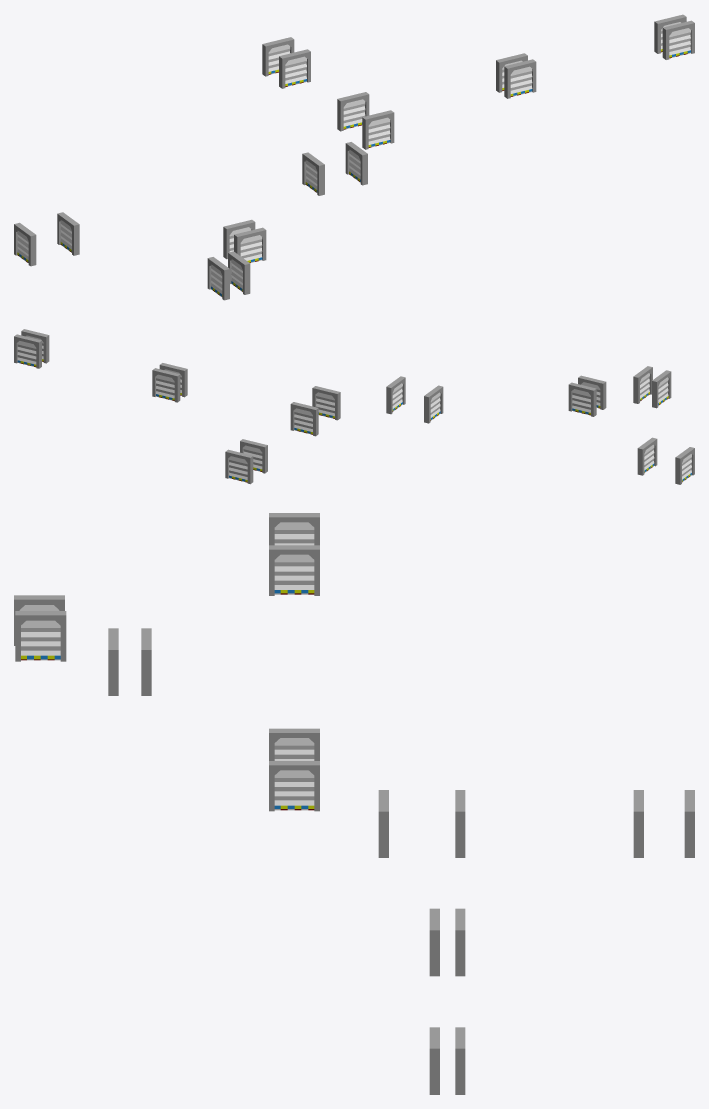
Rendered from Containment1.fbx_EnabledDoors.fbx.
3 renders of one model, top to bottom at view 1: azimuth 30°, elevation 25°; view 2: azimuth 150°, elevation 25°; view 3: azimuth 270°, elevation 25°, orthographic. The views are drawn at different scales.
Visible parts, largest first — view 1: DoorOff.010, DoorOff.007, DoorOff.002, DoorOff.009, DoorOff.003, DoorwayOff.009, DoorwayOff.007, DoorwayOff.010, DoorwayOff.002, DoorwayOff.015, DoorOff.017, DoorwayOff.018 (+7 smaller); view 2: DoorOff.005, DoorwayOff.011, DoorwayOff.004, DoorOff.011, DoorwayOff.003, DoorOff.003, DoorOff.004, DoorOff.016, DoorwayOff.016, DoorwayOff.014, DoorOff.010, DoorwayOff.005 (+11 smaller); view 3: DoorOff.012, DoorOff.014, DoorOff.019, DoorwayOff.019, DoorwayOff.014, DoorwayOff.012, DoorOff.015, DoorOff.013.
Part boxes in pixels (x1=…): DoorOff.010: x1=368, y1=117, x2=390, y2=147; DoorOff.007: x1=510, y1=66, x2=532, y2=96; DoorOff.002: x1=285, y1=56, x2=306, y2=86; DoorOff.009: x1=669, y1=28, x2=690, y2=58; DoorOff.003: x1=343, y1=99, x2=365, y2=129; DoorwayOff.009: x1=662, y1=20, x2=694, y2=59; DoorwayOff.007: x1=504, y1=59, x2=536, y2=98; DoorwayOff.010: x1=362, y1=110, x2=394, y2=149; DoorwayOff.002: x1=279, y1=49, x2=310, y2=88; DoorwayOff.015: x1=14, y1=222, x2=36, y2=266; DoorOff.017: x1=240, y1=235, x2=262, y2=262; DoorwayOff.018: x1=207, y1=257, x2=229, y2=300; DoorOff.005: x1=17, y1=341, x2=36, y2=367; DoorwayOff.011: x1=225, y1=449, x2=253, y2=484; DoorwayOff.004: x1=152, y1=368, x2=180, y2=402; DoorOff.011: x1=229, y1=456, x2=247, y2=482; DoorwayOff.003: x1=290, y1=402, x2=318, y2=436; DoorOff.003: x1=294, y1=408, x2=312, y2=434; DoorOff.004: x1=156, y1=374, x2=174, y2=400; DoorOff.016: x1=572, y1=389, x2=590, y2=415; DoorwayOff.016: x1=568, y1=382, x2=596, y2=416; DoorwayOff.014: x1=637, y1=437, x2=657, y2=475; DoorOff.010: x1=316, y1=392, x2=334, y2=418; DoorwayOff.005: x1=14, y1=334, x2=41, y2=368; DoorOff.012: x1=274, y1=770, x2=314, y2=810; DoorOff.014: x1=274, y1=554, x2=314, y2=594; DoorOff.019: x1=21, y1=620, x2=60, y2=660; DoorwayOff.019: x1=15, y1=611, x2=66, y2=661; DoorwayOff.014: x1=269, y1=545, x2=319, y2=595; DoorwayOff.012: x1=269, y1=761, x2=319, y2=811; DoorOff.015: x1=274, y1=522, x2=314, y2=545; DoorOff.013: x1=274, y1=738, x2=314, y2=760.
Size of the model in its own units: 7455 by 300 by 4005.
